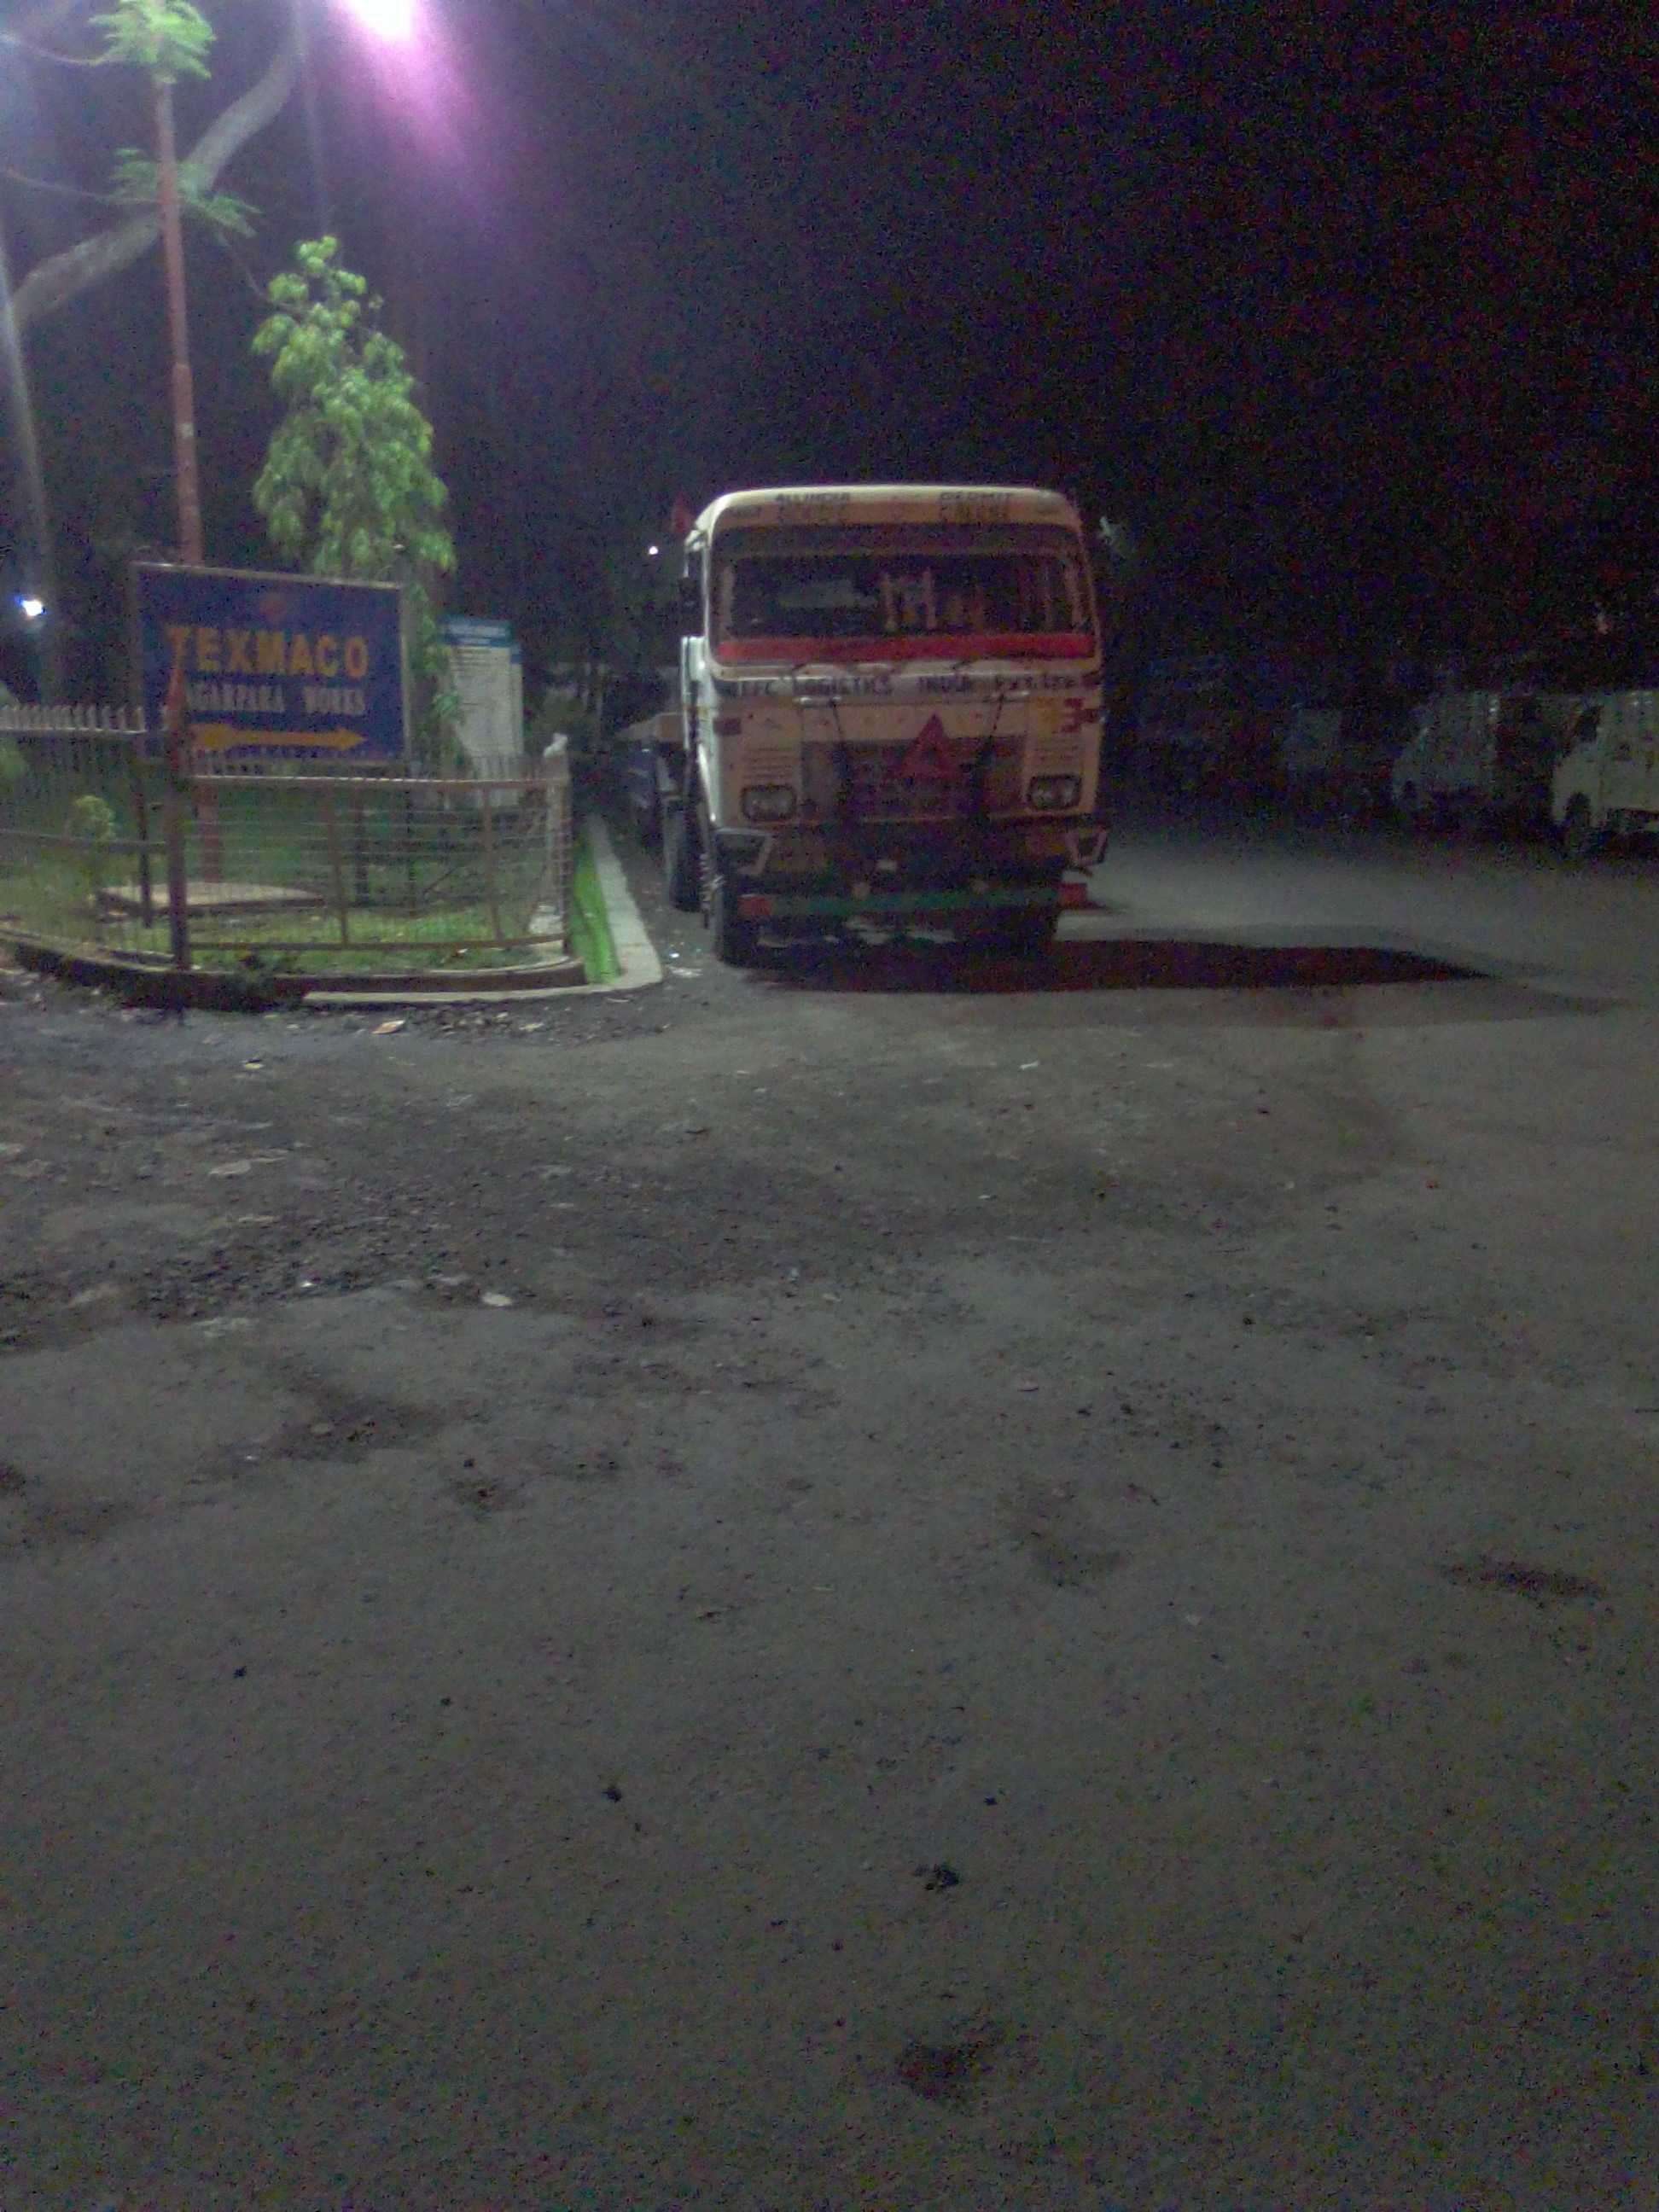truck: (612, 479, 1117, 968)
